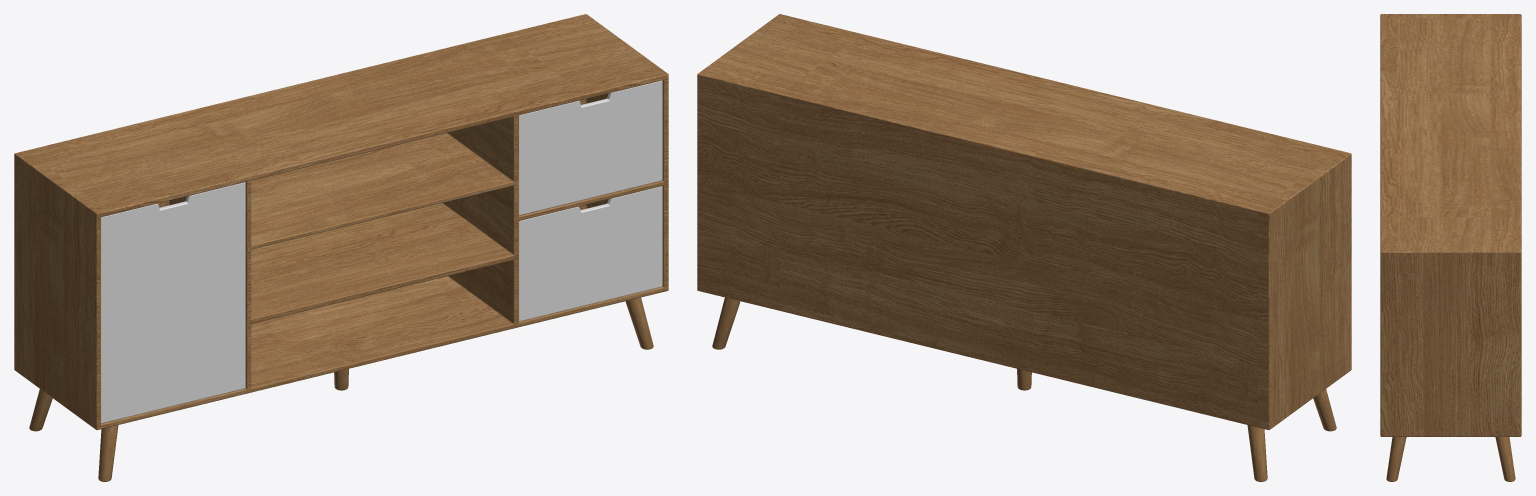
Rendered from MejaTvMinimalis.glb.
3 views of the same model, side by side, from view 1: azimuth 30°, elevation 25°; view 2: azimuth 150°, elevation 25°; view 3: azimuth 270°, elevation 25° (orthographic). The views are drawn at different scales.
Parts seen in each view (by area): view 1: Meja tv minimalis; view 2: Meja tv minimalis; view 3: Meja tv minimalis.
Part boxes in pixels (x1,y1,x2,y2): Meja tv minimalis: (14, 14, 668, 481); Meja tv minimalis: (697, 14, 1351, 481); Meja tv minimalis: (1380, 14, 1521, 481).
Size of the model in its own units: 1.2 by 0.55 by 0.3.
Materials: 2 (1 with a texture image).
